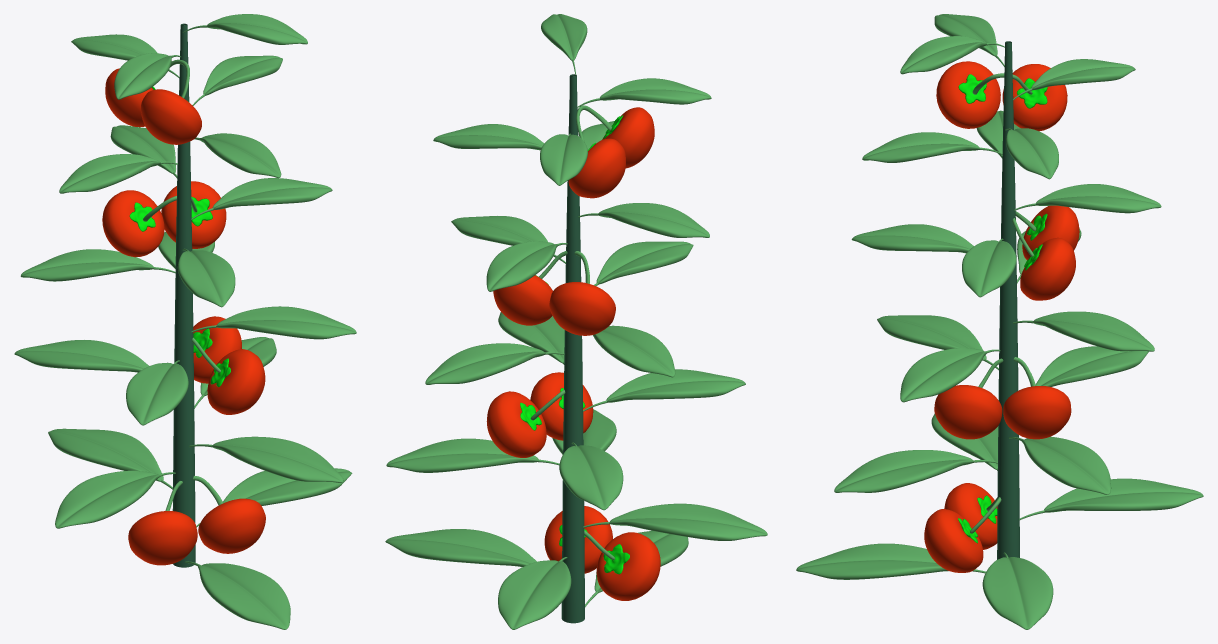
The model's file is tomato plant done.fbx.
3 renders of one model, left to right at view 1: azimuth 30°, elevation 25°; view 2: azimuth 150°, elevation 25°; view 3: azimuth 270°, elevation 25°, orthographic.
Visible parts, largest first — view 1: Leaf, Tomato, Stem; view 2: Leaf, Tomato, Stem; view 3: Leaf, Tomato, Stem.
Boxes of the visible parts, x1,y1,x2,y2 form: Leaf: (14, 14, 356, 629); Tomato: (102, 59, 265, 565); Stem: (172, 23, 195, 567); Leaf: (385, 14, 767, 629); Tomato: (486, 105, 660, 600); Stem: (561, 74, 584, 623); Leaf: (796, 14, 1203, 629); Tomato: (924, 61, 1079, 572); Stem: (997, 41, 1019, 559).
Bounding box in the file's own units: 57.82 × 90.83 × 60.29.
